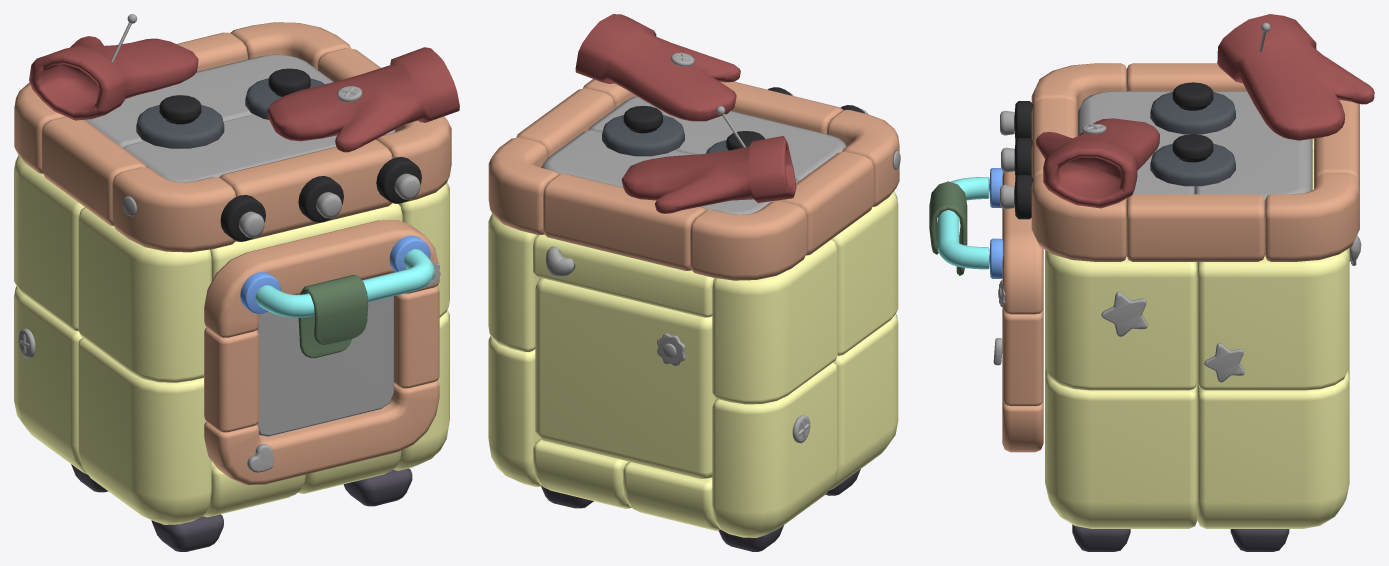
Rendered from Grilled_Fix01.fbx.
The picture shows the model from 3 angles, left to right: view 1: azimuth 30°, elevation 25°; view 2: azimuth 150°, elevation 25°; view 3: azimuth 270°, elevation 25°; orthographic projection. The views are drawn at different scales.
Visible parts, largest first — view 1: M_Grilled_9, M_Grilled_10, S_Grilled_10, S_Grilled_9, M_Grilled_14, M_Grilled_13, S_Grilled_8, M_Grilled_11, M_Grilled_12, M_Grilled_18, M_Grilled_24, M_Grilled_41 (+30 smaller); view 2: M_Grilled_47, M_Grilled_12, M_Grilled_11, S_Grilled_9, M_Grilled_25, S_Grilled_8, M_Grilled_9, M_Grilled_20, M_Grilled_10, M_Grilled_4, M_Grilled_8, M_Grilled_7 (+16 smaller); view 3: M_Grilled_5, M_Grilled_8, M_Grilled_7, M_Grilled_6, S_Grilled_8, M_Grilled_22, S_Grilled_9, M_Grilled_19, M_Grilled_30, M_Grilled_17, M_Grilled_13, M_Grilled_32 (+20 smaller).
Part boxes in pixels (x1,y1,x2,y2): M_Grilled_9: (78,338,211,524); M_Grilled_10: (78,207,211,382); S_Grilled_10: (257,296,393,436); S_Grilled_9: (267,47,459,152); M_Grilled_14: (204,380,439,484); M_Grilled_13: (204,219,439,337); S_Grilled_8: (29,36,198,120); M_Grilled_11: (14,155,84,331); M_Grilled_12: (14,286,87,474); M_Grilled_18: (112,167,235,252); M_Grilled_24: (219,139,392,241); M_Grilled_41: (123,114,395,182); M_Grilled_47: (535,277,716,478); M_Grilled_12: (712,362,837,537); M_Grilled_11: (712,239,837,404); S_Grilled_9: (575,14,740,121); M_Grilled_25: (543,174,706,270); S_Grilled_8: (621,136,796,213); M_Grilled_9: (829,314,898,490); M_Grilled_20: (690,200,807,280); M_Grilled_10: (832,191,898,355); M_Grilled_4: (533,234,714,317); M_Grilled_8: (488,336,541,486); M_Grilled_7: (488,213,539,351); M_Grilled_5: (1045,371,1197,528); M_Grilled_8: (1197,371,1349,528); M_Grilled_7: (1197,249,1349,390); M_Grilled_6: (1045,250,1197,390); S_Grilled_8: (1217,14,1374,140); M_Grilled_22: (1126,194,1265,261); S_Grilled_9: (1036,118,1159,208); M_Grilled_19: (1265,173,1359,261); M_Grilled_30: (1195,91,1312,200); M_Grilled_17: (1031,173,1126,261); M_Grilled_13: (1002,171,1043,314); M_Grilled_32: (1002,308,1043,405).
Bounding box in the file's own units: 503 × 672 × 606.
